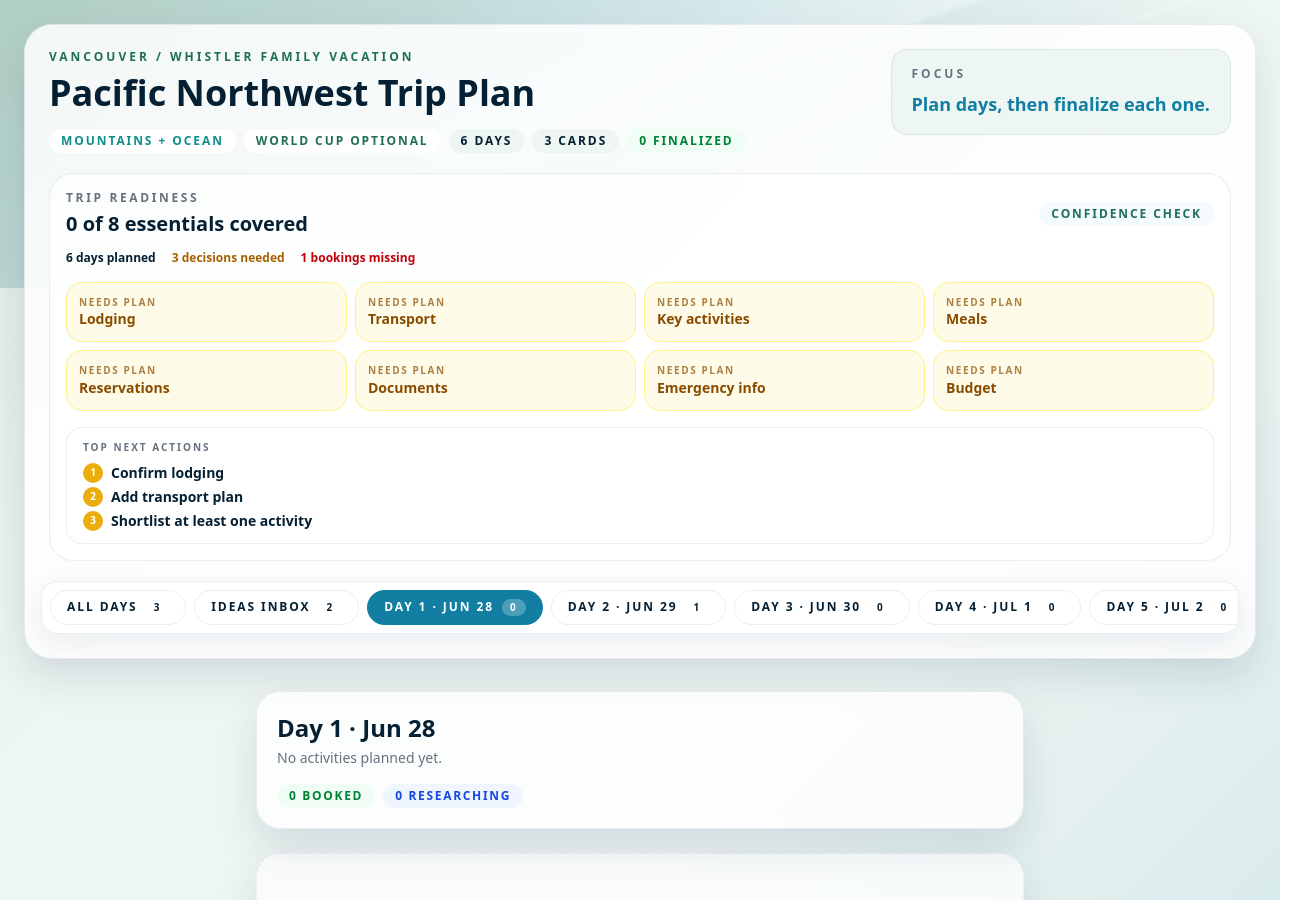
KanbanBoard › shows a travel type chip on cards
What coordinates should you click on to do the following:
click the button "All Days 3"
I would click on:
 (118, 607)
Its box is x1=50 y1=590 x2=186 y2=625.
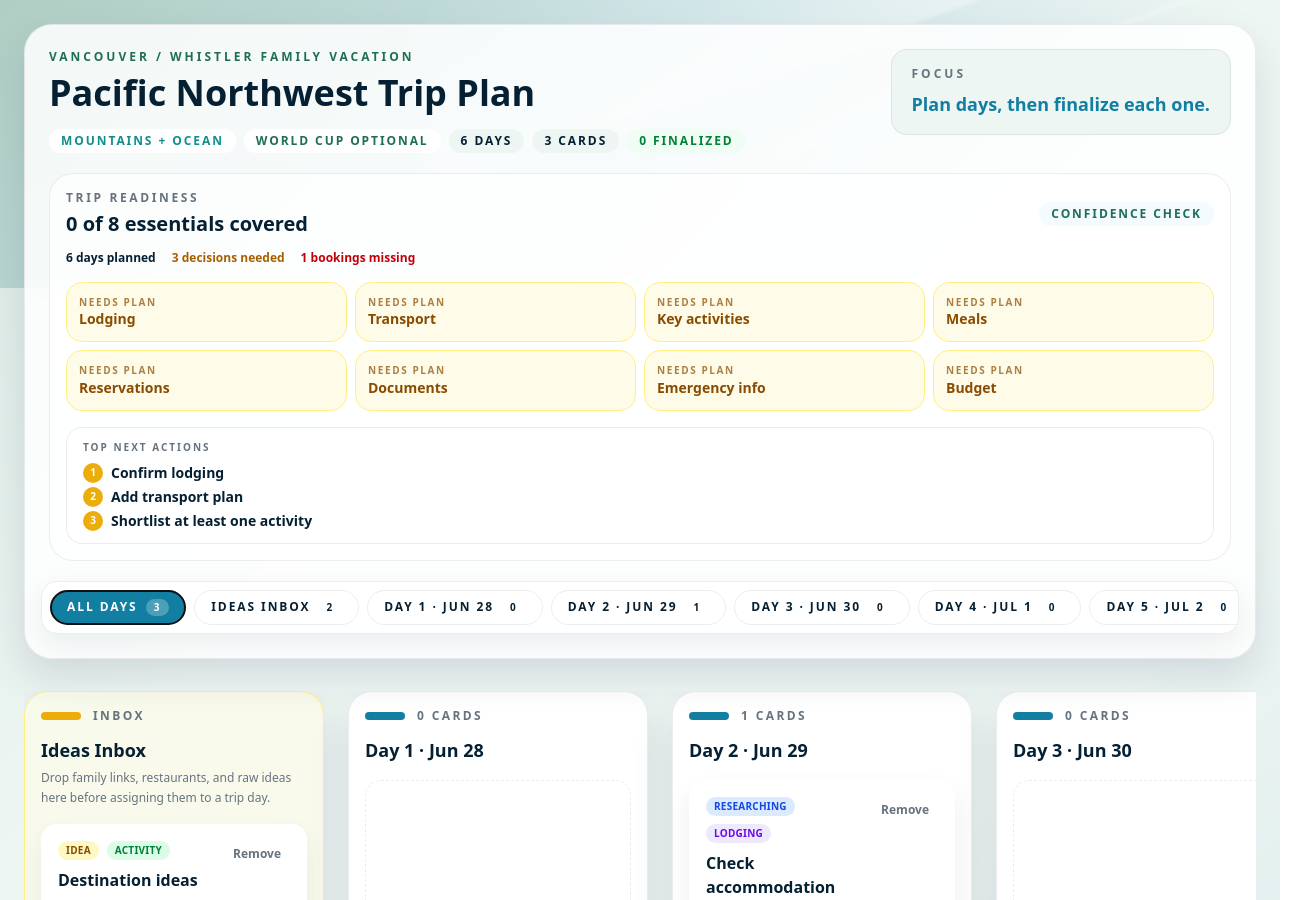
Now the text "Activity" is shown, box x1=107 y1=841 x2=170 y2=860
